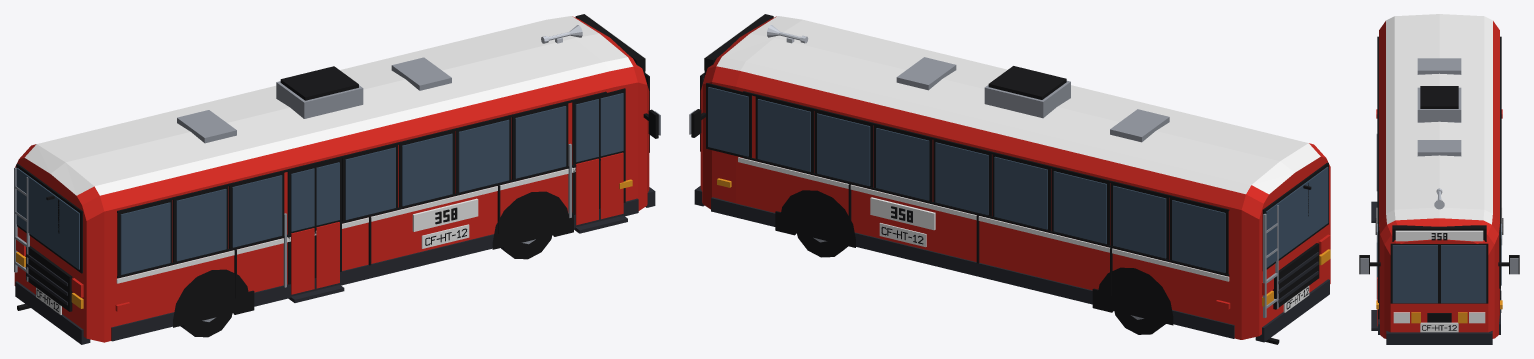
Rendered from micro_roja.obj.
3 views of the same model, side by side, from view 1: azimuth 30°, elevation 25°; view 2: azimuth 150°, elevation 25°; view 3: azimuth 270°, elevation 25° (orthographic). The views are drawn at different scales.
Parts seen in each view (by area): view 1: micro_roja; view 2: micro_roja; view 3: micro_roja.
Part boxes in pixels (x1=…): micro_roja: x1=14, y1=14, x2=660, y2=344; micro_roja: x1=689, y1=14, x2=1330, y2=344; micro_roja: x1=1359, y1=14, x2=1519, y2=344.
Size of the model in its own units: 10.8 by 3.43 by 3.32.
